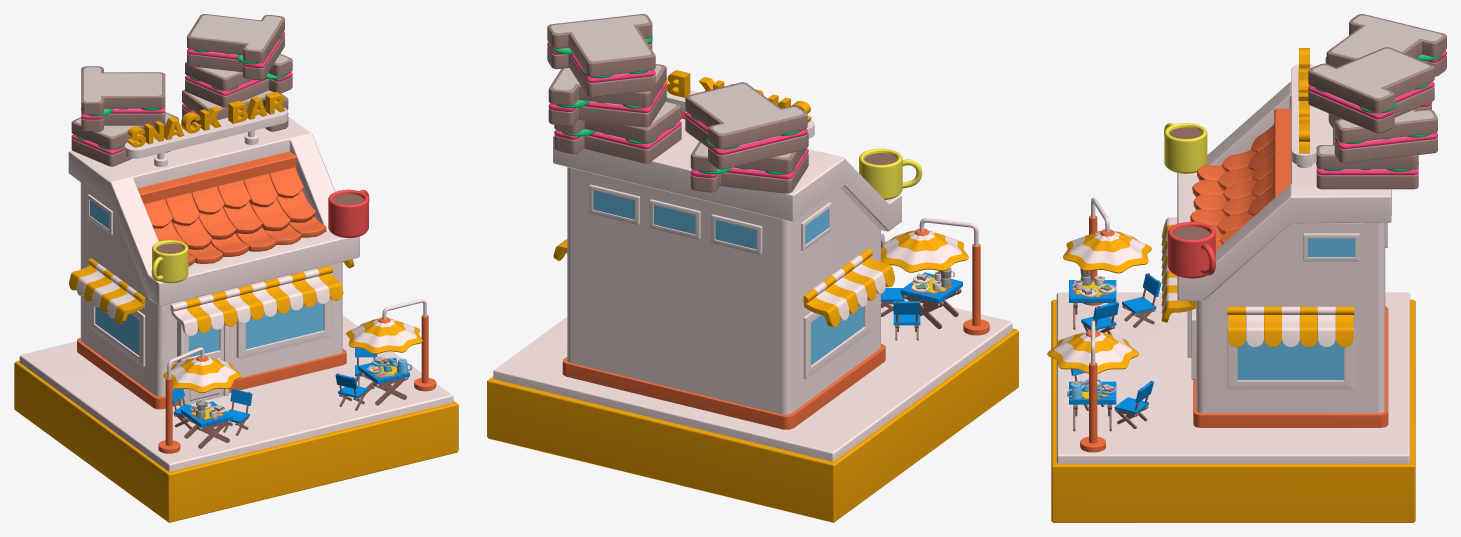
File: Store_Island_18.glb
The picture shows the model from 3 angles, left to right: view 1: azimuth 30°, elevation 25°; view 2: azimuth 150°, elevation 25°; view 3: azimuth 270°, elevation 25°; orthographic projection. The views are drawn at different scales.
Parts seen in each view (by area): view 1: Store_18_Snack_Bar_1, Store_18_Base_1, Store_18_Snack_Bar_Sign_2, Store_18_Big_Sandwich_3, Store_18_Big_Sandwich_4, Store_18_Big_Sandwich_2, Store_18_Umbrella_1, Store_18_Umbrella_2, Store_18_Big_Sandwich_5, Store_18_Big_Cup_2, Store_18_Big_Cup_1, Store_18_Big_Sandwich_1 (+4 smaller); view 2: Store_18_Snack_Bar_1, Store_18_Base_1, Store_18_Big_Sandwich_4, Store_18_Big_Sandwich_3, Store_18_Big_Sandwich_2, Store_18_Big_Sandwich_1, Store_18_Umbrella_2, Store_18_Big_Sandwich_5, Store_18_Big_Cup_1, Store_18_Snack_Bar_Sign_2, Store_18_Table_2, Store_18_Chair_2; view 3: Store_18_Snack_Bar_1, Store_18_Base_1, Store_18_Big_Sandwich_3, Store_18_Big_Sandwich_2, Store_18_Big_Sandwich_4, Store_18_Umbrella_1, Store_18_Big_Sandwich_1, Store_18_Umbrella_2, Store_18_Big_Cup_2, Store_18_Snack_Bar_Sign_2, Store_18_Big_Cup_1, Store_18_Chair_2 (+4 smaller).
Boxes of the visible parts, x1,y1,x2,y2 form: Store_18_Snack_Bar_1: (68,116,359,409); Store_18_Base_1: (14,315,458,522); Store_18_Snack_Bar_Sign_2: (124,92,287,166); Store_18_Big_Sandwich_3: (187,14,284,80); Store_18_Big_Sandwich_4: (81,66,165,131); Store_18_Big_Sandwich_2: (185,54,292,107); Store_18_Umbrella_1: (346,299,436,391); Store_18_Umbrella_2: (158,347,241,453); Store_18_Big_Sandwich_5: (71,112,178,166); Store_18_Big_Cup_2: (328,189,369,237); Store_18_Big_Cup_1: (151,240,188,283); Store_18_Big_Sandwich_1: (182,89,288,131); Store_18_Snack_Bar_1: (553,118,901,429); Store_18_Base_1: (487,299,1018,522); Store_18_Big_Sandwich_4: (685,82,807,169); Store_18_Big_Sandwich_3: (547,14,655,97); Store_18_Big_Sandwich_2: (548,64,666,127); Store_18_Big_Sandwich_1: (554,101,681,163); Store_18_Umbrella_2: (881,218,989,335); Store_18_Big_Sandwich_5: (690,133,808,193); Store_18_Big_Cup_1: (859,148,922,199); Store_18_Snack_Bar_Sign_2: (665,70,814,138); Store_18_Table_2: (900,272,962,329); Store_18_Chair_2: (893,300,920,340); Store_18_Snack_Bar_1: (1161,82,1391,427); Store_18_Base_1: (1051,292,1415,522); Store_18_Big_Sandwich_3: (1308,47,1434,133); Store_18_Big_Sandwich_2: (1331,109,1437,163); Store_18_Big_Sandwich_4: (1326,14,1446,76); Store_18_Umbrella_1: (1047,320,1138,452); Store_18_Big_Sandwich_1: (1316,125,1418,189); Store_18_Umbrella_2: (1063,197,1151,305); Store_18_Big_Cup_2: (1167,221,1215,278); Store_18_Snack_Bar_Sign_2: (1291,48,1317,168); Store_18_Big_Cup_1: (1164,123,1207,173); Store_18_Chair_2: (1122,273,1161,327).
Bounding box in the file's own units: 8.63 × 9.72 × 8.73.
43 materials, 43 textured.
